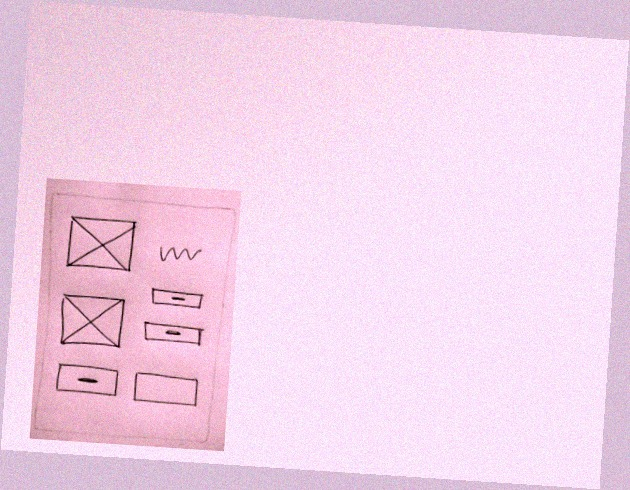button: (50, 360, 125, 402), (142, 319, 210, 351), (148, 284, 207, 314)
image: (61, 212, 140, 278), (54, 290, 128, 352)
text: (155, 240, 206, 272)
text_input: (131, 367, 203, 412)
